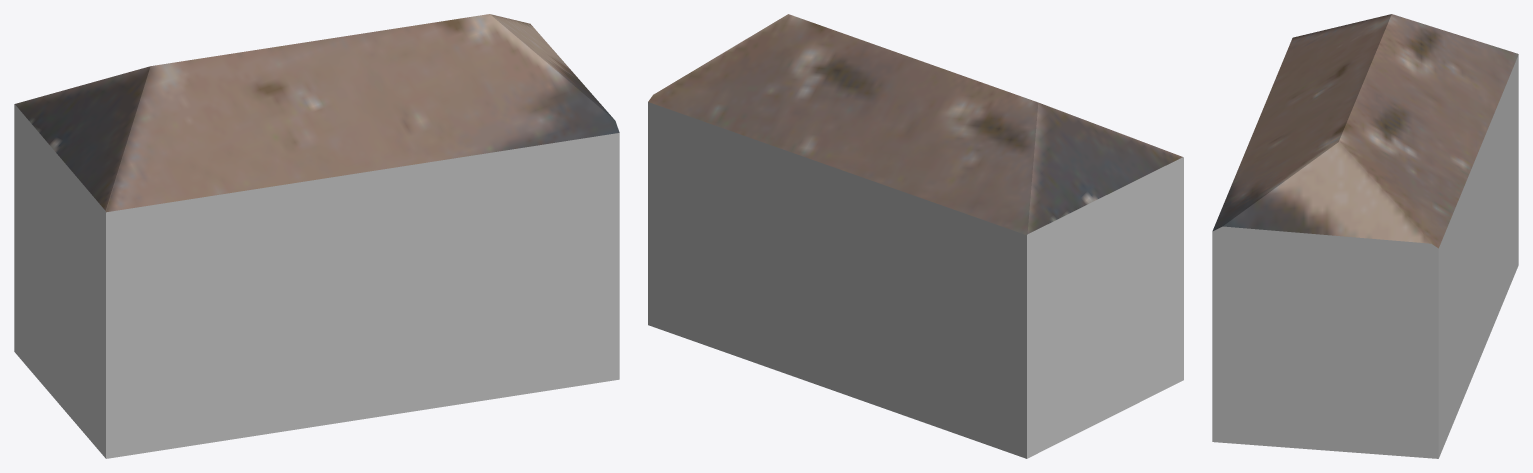
File: DEBW_0010007TxhM.gltf
3 views of the same model, side by side, from view 1: azimuth 30°, elevation 25°; view 2: azimuth 150°, elevation 25°; view 3: azimuth 270°, elevation 25° (orthographic). The views are drawn at different scales.
Parts seen in each view (by area): view 1: Z_UP; view 2: Z_UP; view 3: Z_UP.
Boxes of the visible parts, bbox=[...] form: Z_UP: bbox=[14, 14, 619, 458]; Z_UP: bbox=[648, 14, 1183, 458]; Z_UP: bbox=[1212, 14, 1518, 458].
Size of the model in its own units: 22.01 by 13.48 by 13.52.
Materials: 2 (1 with a texture image).
